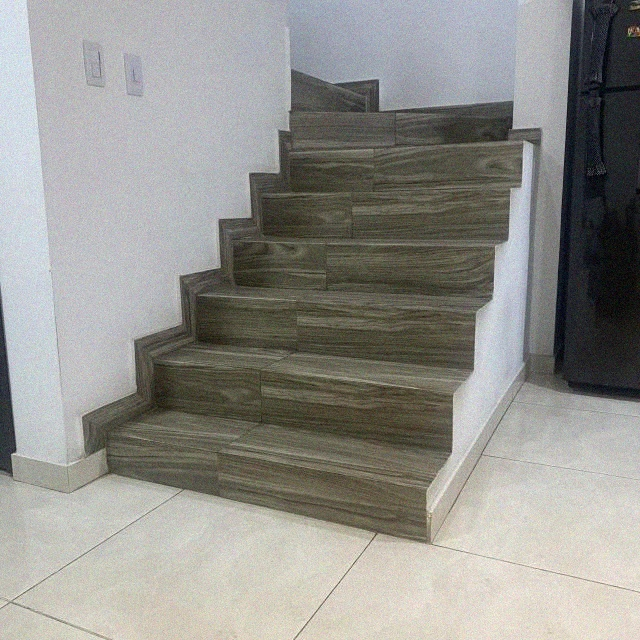stair: (93, 70, 542, 551)
